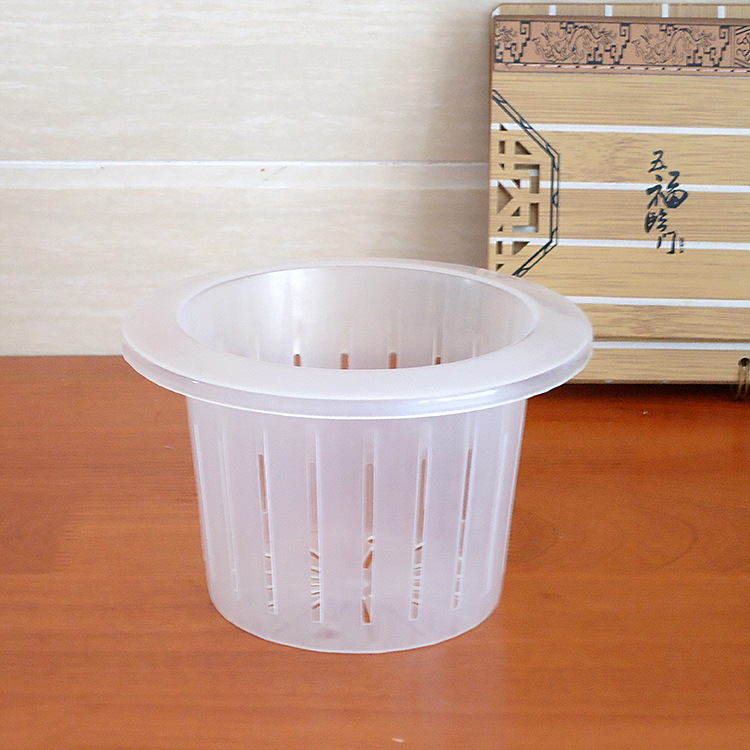basket: (120, 244, 596, 661)
